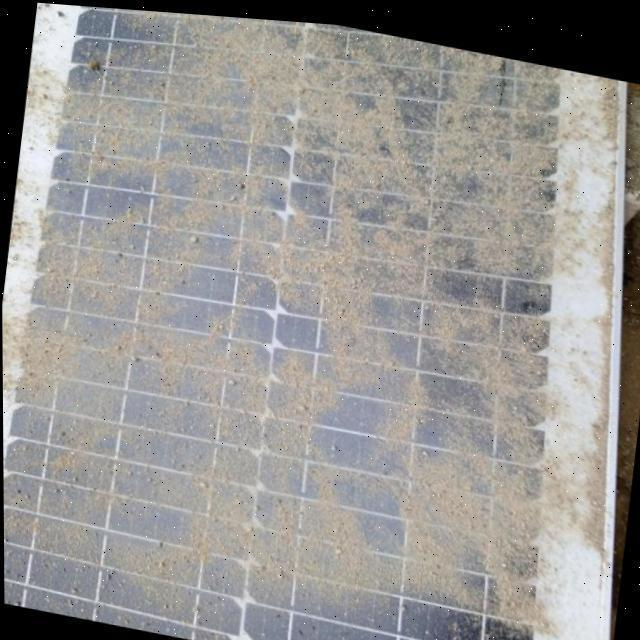Surface Contaminant: (2, 2, 602, 640)
